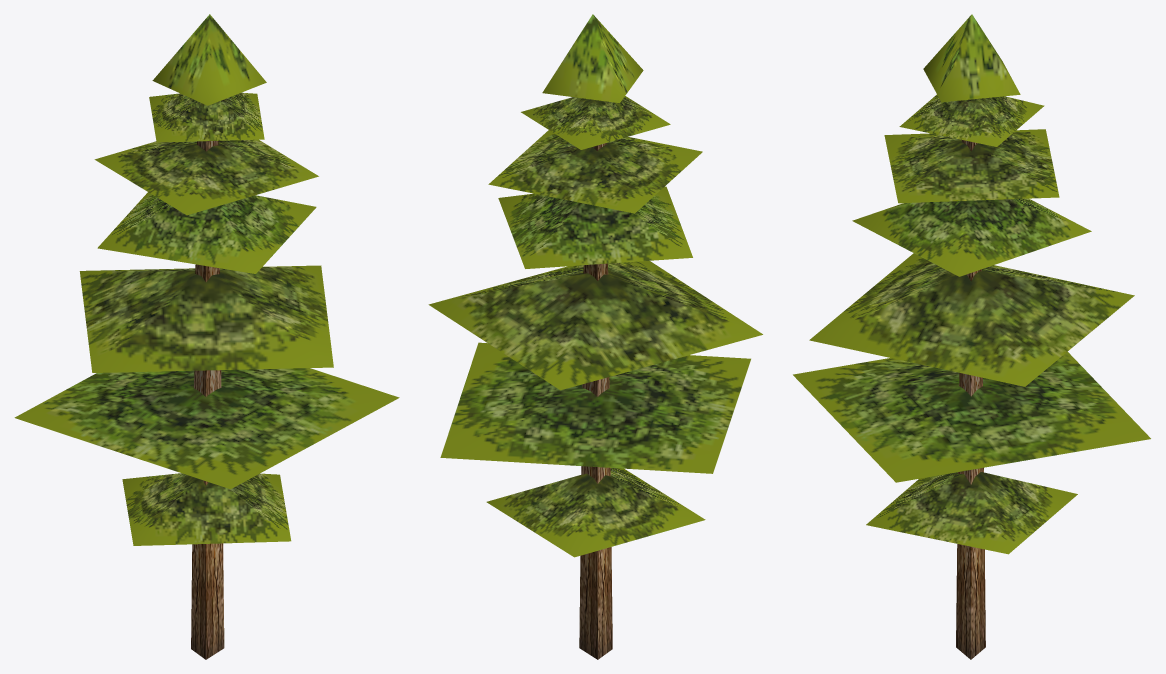
The model's file is pine_base.glb.
3 views of the same model, side by side, from view 1: azimuth 30°, elevation 25°; view 2: azimuth 150°, elevation 25°; view 3: azimuth 270°, elevation 25° (orthographic).
Parts seen in each view (by area): view 1: MeshRoot; view 2: MeshRoot; view 3: MeshRoot.
Boxes of the visible parts, x1,y1,x2,y2 form: MeshRoot: (14,14,399,659); MeshRoot: (428,14,762,659); MeshRoot: (793,14,1150,659).
Size of the model in its own units: 5.09 by 10 by 5.09.
1 material, 1 textured.
